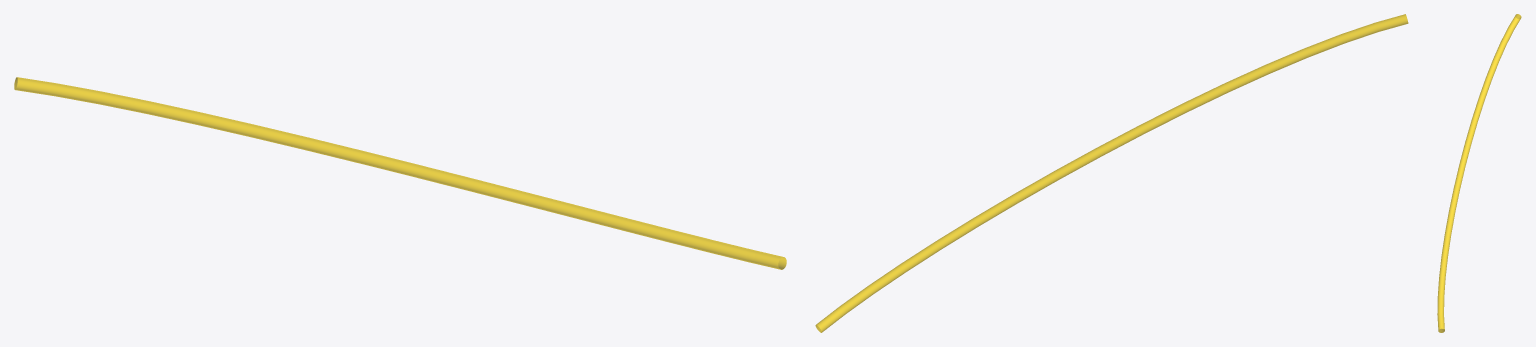
The model's file is Event_100608114_track_50.fbx.
The picture shows the model from 3 angles, left to right: view 1: azimuth 30°, elevation 25°; view 2: azimuth 210°, elevation 25°; view 3: azimuth 270°, elevation 25°; orthographic projection. The views are drawn at different scales.
Parts seen in each view (by area): view 1: Model; view 2: Model; view 3: Model.
Boxes of the visible parts, x1,y1,x2,y2 form: Model: [14, 77, 786, 269]; Model: [815, 14, 1408, 332]; Model: [1437, 14, 1521, 332].
Bounding box in the file's own units: 2.44 × 1.02 × 0.5118.
